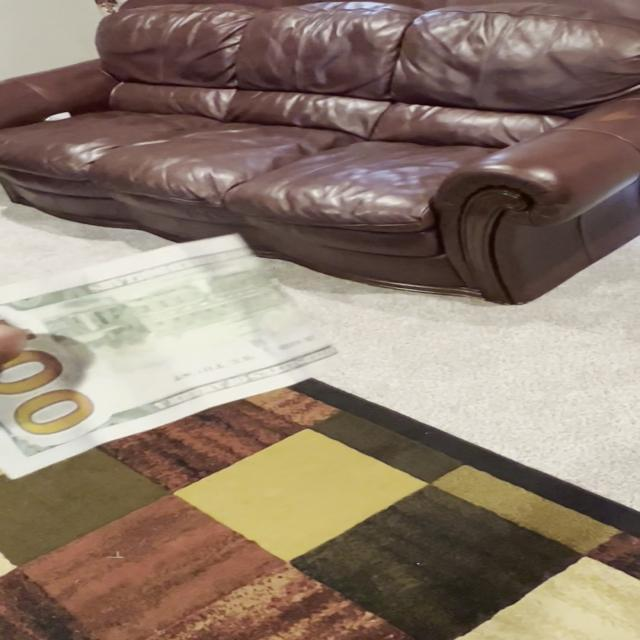hundred: (1, 232, 350, 481)
